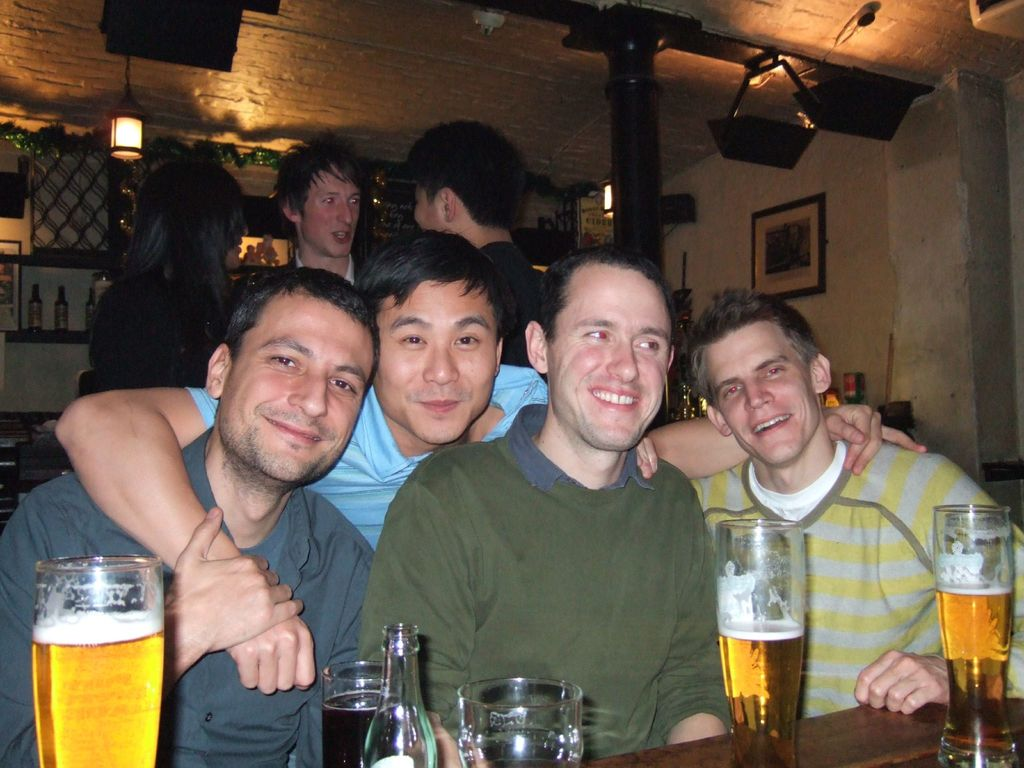Beer: (24, 556, 171, 767), (707, 516, 803, 767), (930, 504, 1011, 767), (307, 649, 410, 767), (360, 612, 437, 767), (458, 670, 578, 766)
